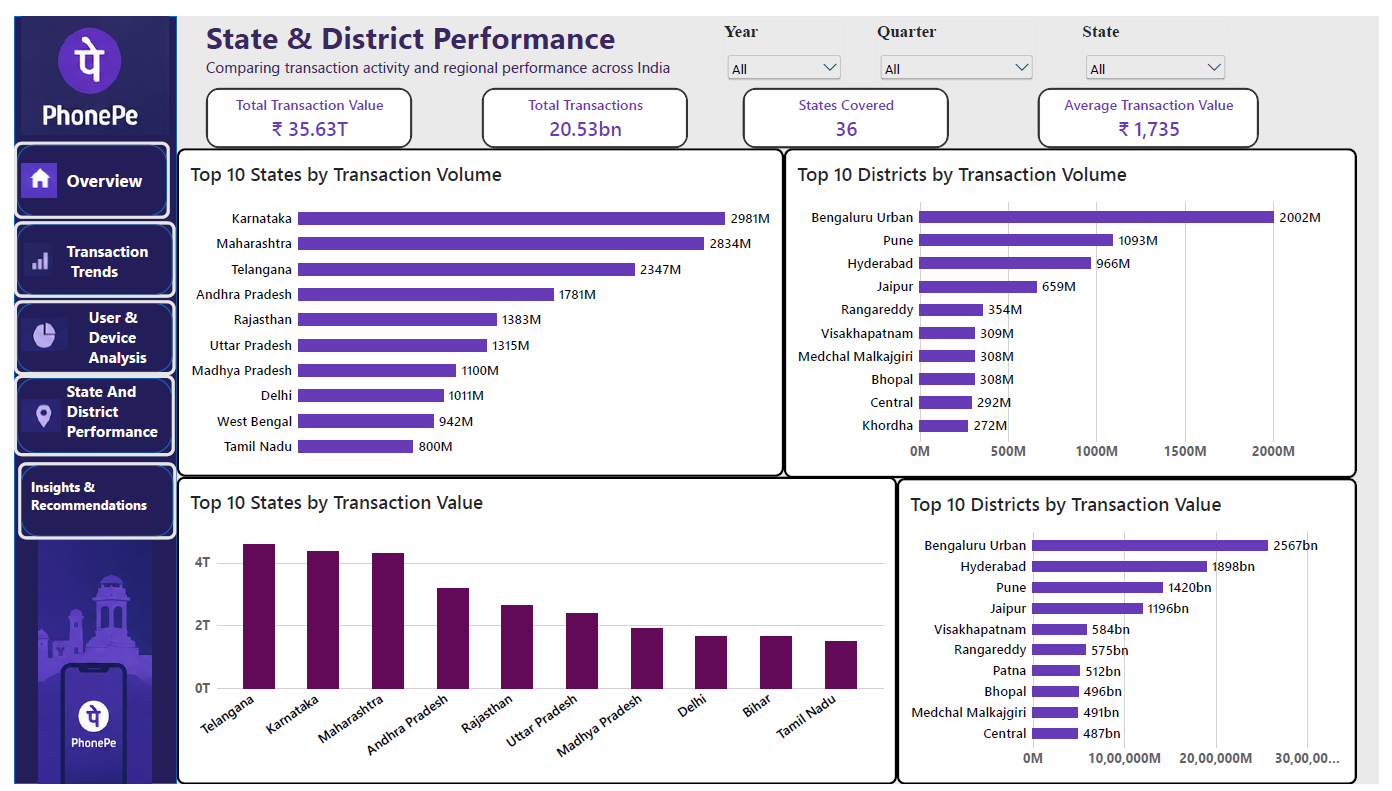

The dashboard page shown, as its layout file describes it:
{"tool":"powerbi","page":{"name":"State & District Performance","canvas":[1920,1080],"ordinal":3},"visuals":[{"type":"textbox","box":[269.6,0,689.5,117.3],"z":0},{"type":"slicer","title":"Year","fields":{"Values":["State_Txn and Users.Year"]},"box":[997.6,7.4,171.2,92],"z":1000},{"type":"slicer","title":"Quarter","fields":{"Values":["State_Txn and Users.Quarter"]},"box":[1212.9,7.4,226.4,92],"z":2000},{"type":"slicer","title":"State","fields":{"Values":["DimState.State"]},"box":[1501.8,7.4,208,88.3],"z":3000},{"type":"shape","box":[0,0,228.2,1080.4],"z":4000},{"type":"cardVisual","fields":{"Data":["State_Txn and Users.Total Transaction Value"]},"box":[270.2,101.1,290,85],"z":5000},{"type":"cardVisual","fields":{"Data":["State_Txn and Users.Total Transactions"]},"box":[658,101.1,290,85],"z":6000},{"type":"cardVisual","fields":{"Data":["State_Txn and Users.Average Transaction Value"]},"box":[1439.8,101.1,311,84.7],"z":7000},{"type":"cardVisual","fields":{"Data":["DimState.States Covered"]},"box":[1025.2,101.1,290,85],"z":8000},{"type":"clusteredBarChart","title":"Top 10 States by Transaction Volume","fields":{"Category":["DimState.State"],"Y":["State_Txn and Users.Total Transactions"]},"box":[229,185.6,854,462.1],"z":9000},{"type":"clusteredBarChart","title":"Top 10 Districts by Transaction Volume","fields":{"Category":["District_Txn and Users.District"],"Y":["Sum(District_Txn and Users.Transactions)"]},"box":[1082.9,185.6,806.5,464.1],"z":10000},{"type":"clusteredColumnChart","title":"Top 10 States by Transaction Value","fields":{"Category":["DimState.State"],"Y":["State_Txn and Users.Total Transaction Value"]},"box":[229,647.7,1012.8,433.2],"z":11000},{"type":"clusteredBarChart","title":"Top 10 Districts by Transaction Value","fields":{"Category":["District_Txn and Users.District"],"Y":["Sum(District_Txn and Users.Amount (INR))"]},"box":[1241.8,649.8,647.7,431.1],"z":12000},{"type":"image","box":[0,736.2,228.2,344.2],"z":14000},{"type":"image","box":[0,0,228.2,167.5],"z":15000},{"type":"shape","box":[0,177.4,218.7,107.3],"z":16000},{"type":"shape","box":[0,288.8,226.9,107.3],"z":17000},{"type":"shape","box":[0,400.2,226.9,105.2],"z":18000},{"type":"shape","box":[0,505.4,226.4,114.1],"z":19000},{"type":"textbox","box":[74.3,214.5,121.5,62.6],"z":20000},{"type":"textbox","box":[74.3,315.6,127,77.3],"z":21000},{"type":"textbox","box":[104.9,408.6,136.2,92],"z":22000},{"type":"textbox","box":[73.6,513.5,154.6,99.4],"z":23000},{"type":"image","box":[10.3,204.2,49.7,53.4],"z":24000},{"type":"image","box":[14.4,315.6,38.7,53.4],"z":25000},{"type":"image","box":[10.3,408.4,64.4,79.1],"z":26000},{"type":"image","box":[11,528.2,55.2,68.1],"z":27000},{"type":"shape","box":[5.5,627.6,222.7,108.6],"z":27001},{"type":"textbox","box":[23.9,649.7,180.4,58.9],"z":27002}]}

Visuals, with their boxes in screenshot pixels (x1, y1, x2, y2):
textbox: BBox(204, 11, 697, 95)
"Year" slicer: BBox(724, 16, 847, 82)
"Quarter" slicer: BBox(878, 16, 1040, 82)
"State" slicer: BBox(1085, 16, 1233, 79)
shape: BBox(11, 11, 174, 783)
cardVisual - State_Txn and Users.Total Transaction Value: BBox(204, 83, 411, 144)
cardVisual - State_Txn and Users.Total Transactions: BBox(481, 83, 689, 144)
cardVisual - State_Txn and Users.Average Transaction Value: BBox(1040, 83, 1263, 144)
cardVisual - DimState.States Covered: BBox(744, 83, 951, 144)
"Top 10 States by Transaction Volume" clusteredBarChart: BBox(175, 144, 785, 474)
"Top 10 Districts by Transaction Volume" clusteredBarChart: BBox(785, 144, 1362, 475)
"Top 10 States by Transaction Value" clusteredColumnChart: BBox(175, 474, 899, 784)
"Top 10 Districts by Transaction Value" clusteredBarChart: BBox(899, 475, 1362, 784)
image: BBox(11, 537, 174, 783)
image: BBox(11, 11, 174, 131)
shape: BBox(11, 138, 167, 214)
shape: BBox(11, 217, 173, 294)
shape: BBox(11, 297, 173, 372)
shape: BBox(11, 372, 173, 454)
textbox: BBox(64, 164, 151, 209)
textbox: BBox(64, 237, 155, 292)
textbox: BBox(86, 303, 183, 369)
textbox: BBox(64, 378, 174, 449)
image: BBox(18, 157, 54, 195)
image: BBox(21, 237, 49, 275)
image: BBox(18, 303, 64, 359)
image: BBox(19, 389, 58, 437)
shape: BBox(15, 460, 174, 537)
textbox: BBox(28, 475, 157, 518)
